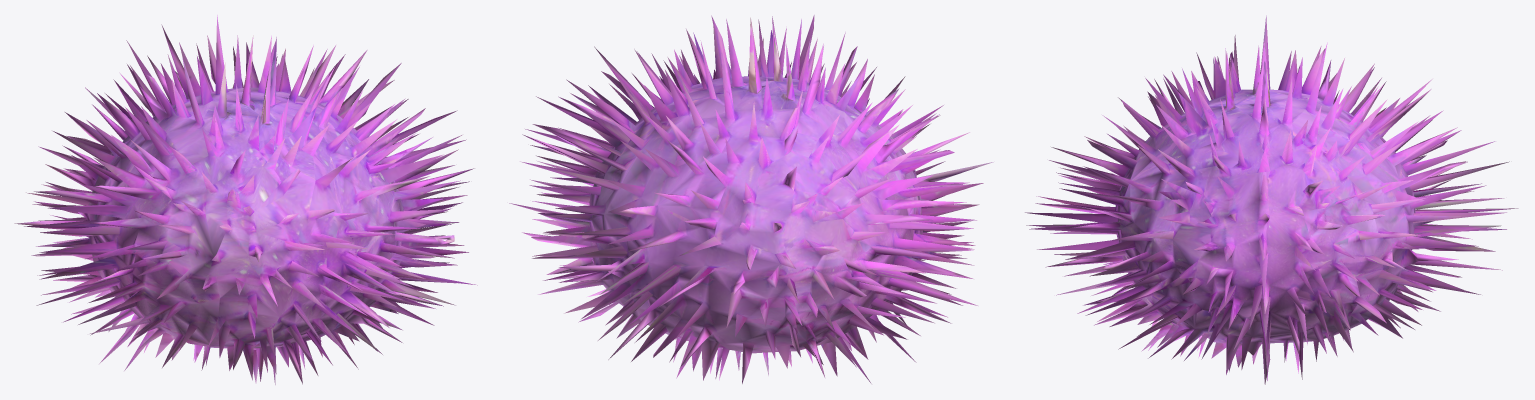
Rendered from erizo.fbx.
The picture shows the model from 3 angles, left to right: view 1: azimuth 30°, elevation 25°; view 2: azimuth 150°, elevation 25°; view 3: azimuth 270°, elevation 25°; orthographic projection. The views are drawn at different scales.
Visible parts, largest first — view 1: Mesh_0; view 2: Mesh_0; view 3: Mesh_0.
Part boxes in pixels (box(x1,y1,x2,y2)): Mesh_0: box(14, 15, 477, 384); Mesh_0: box(509, 15, 993, 383); Mesh_0: box(1025, 15, 1518, 384).
Size of the model in its own units: 198 by 145 by 201.
1 material, 1 textured.
